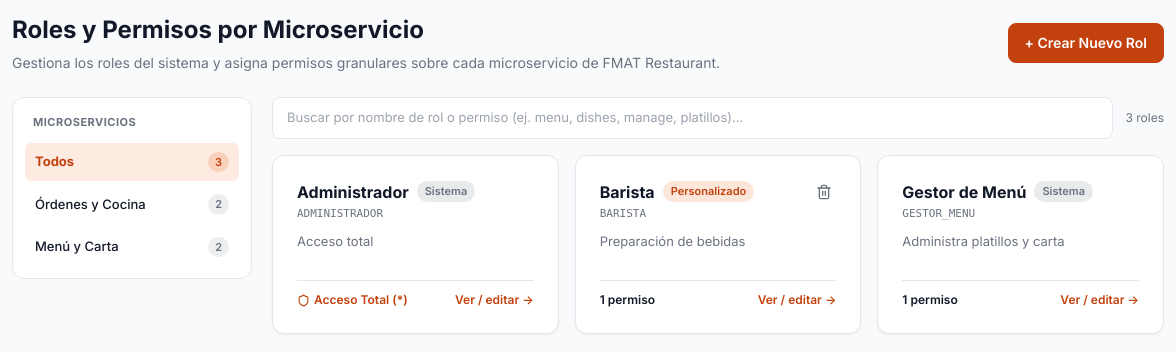
RolesManagementView › filters roles by microservice sidebar and search query (name or permission parts)
This screenshot has width=1176, height=352.
Expected: the heading "Barista" is shown, [600,180,655,204]
Expected: the text "Todos" is shown, [35,152,74,172]
Note: Filtrar por Menú y Carta
Click the text "Menú y Carta".
click(77, 247)  # box [35,237,119,256]
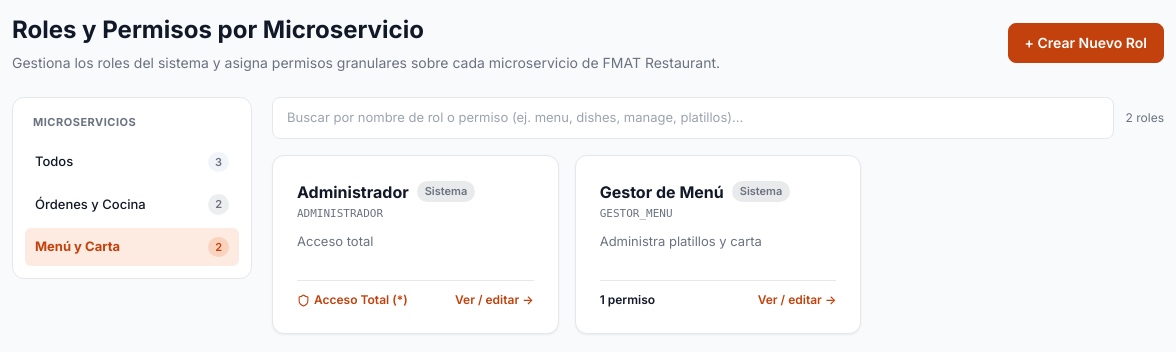
Expected: the heading "Gestor de Menú" is shown, [600,180,724,204]
Now the button "Barista" is gone
Click the text "Todos".
click(54, 162)  # box [35,152,73,172]
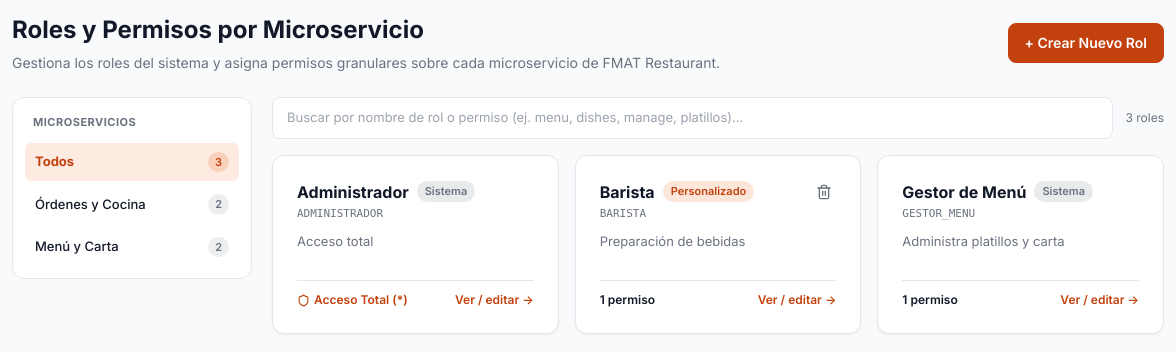
Replace the text in the search field named "Buscar roles o permisos" with "dishes" at (693, 118), box [272,97,1114,138]
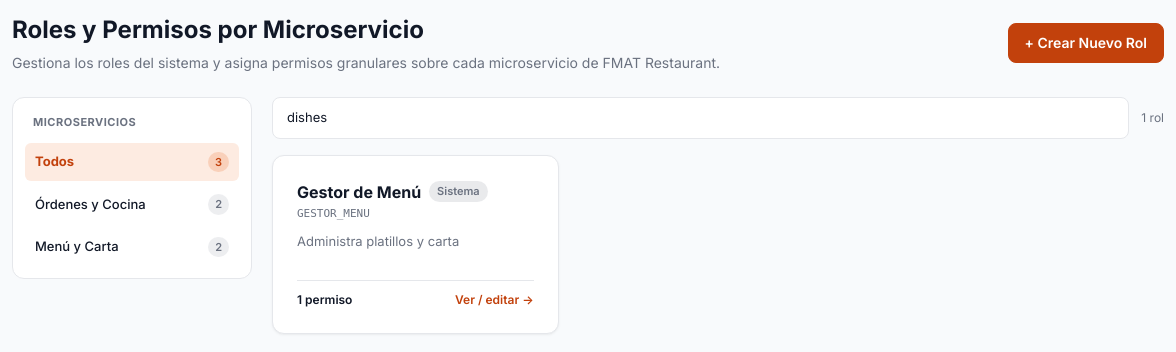
Expected: the heading "Gestor de Menú" is shown, [297,180,421,204]
Now the button "Barista" is gone
Note: Buscar por descripción del permiso ("comandas")
Replace the text in the search field named "Buscar roles o permisos" with "comandas" at (701, 118), box [272,97,1129,138]
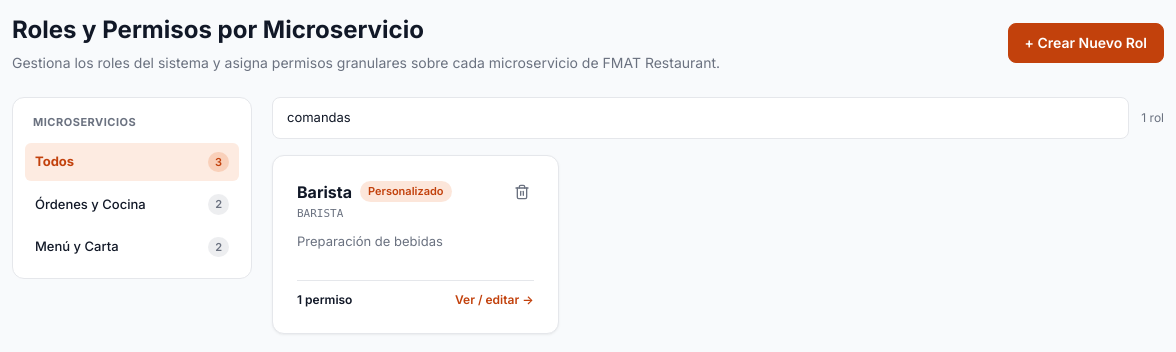
Now the heading "Barista" is shown, box [297,180,352,204]
Now the button "Gestor de Menú" is gone
